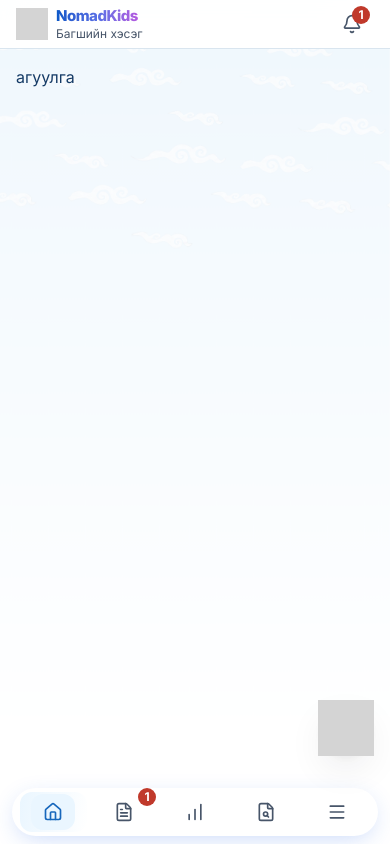
Test: мэдэгдлийн хонх › names an untitled notice by the start of its text, and prints no 'Өнөөдөр'
This screenshot has width=390, height=844.
Click the button "1" at (352, 24), box left=330, top=2, right=374, bottom=46
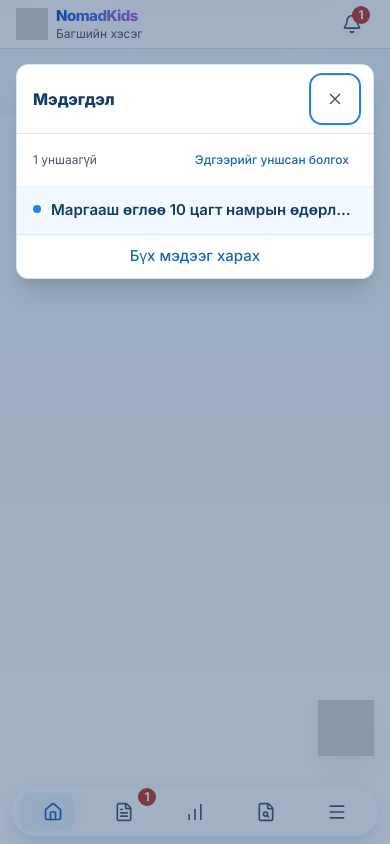
Expected: the text "Маргааш өглөө 10 цагт" is shown, left=51, top=200, right=373, bottom=219
